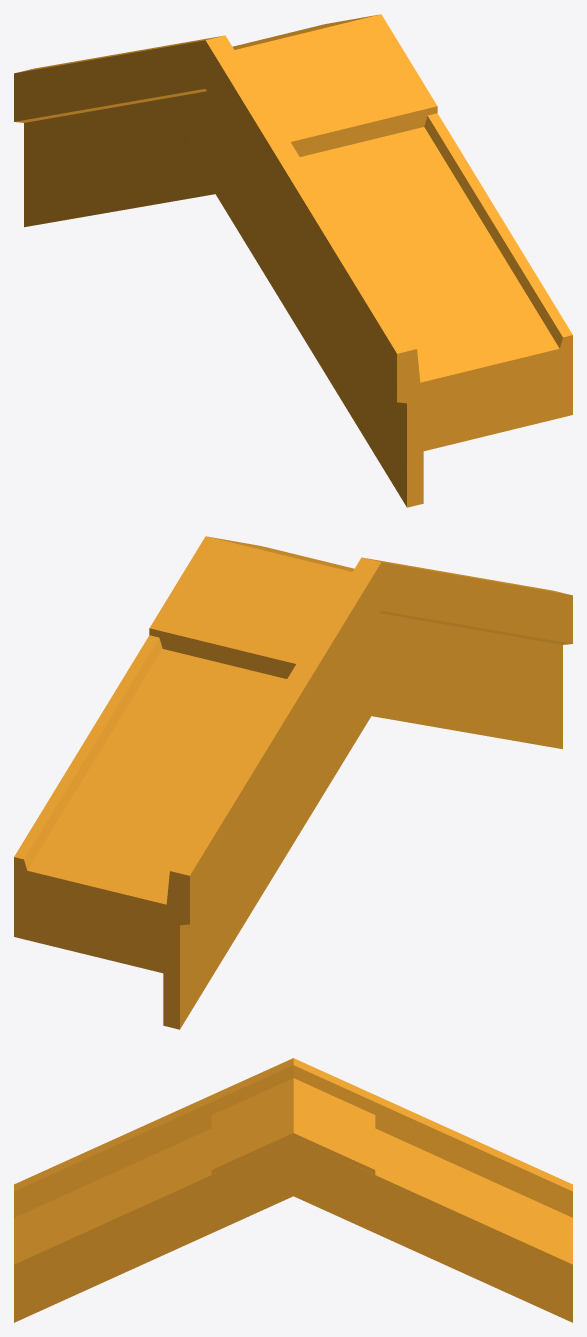
The model's file is SM_Roof_Metal_Moderate_1m_Front_Center.fbx.
3 renders of one model, top to bottom at view 1: azimuth 30°, elevation 25°; view 2: azimuth 150°, elevation 25°; view 3: azimuth 270°, elevation 25°, orthographic. The views are drawn at different scales.
Visible parts, largest first — view 1: roof-metal-moderate-1m-front-center; view 2: roof-metal-moderate-1m-front-center; view 3: roof-metal-moderate-1m-front-center.
Boxes of the visible parts, x1,y1,x2,y2 form: roof-metal-moderate-1m-front-center: (14,14,572,507); roof-metal-moderate-1m-front-center: (14,536,572,1029); roof-metal-moderate-1m-front-center: (14,1058,572,1322).
Size of the model in its own units: 0.53 by 0.9494 by 2.
